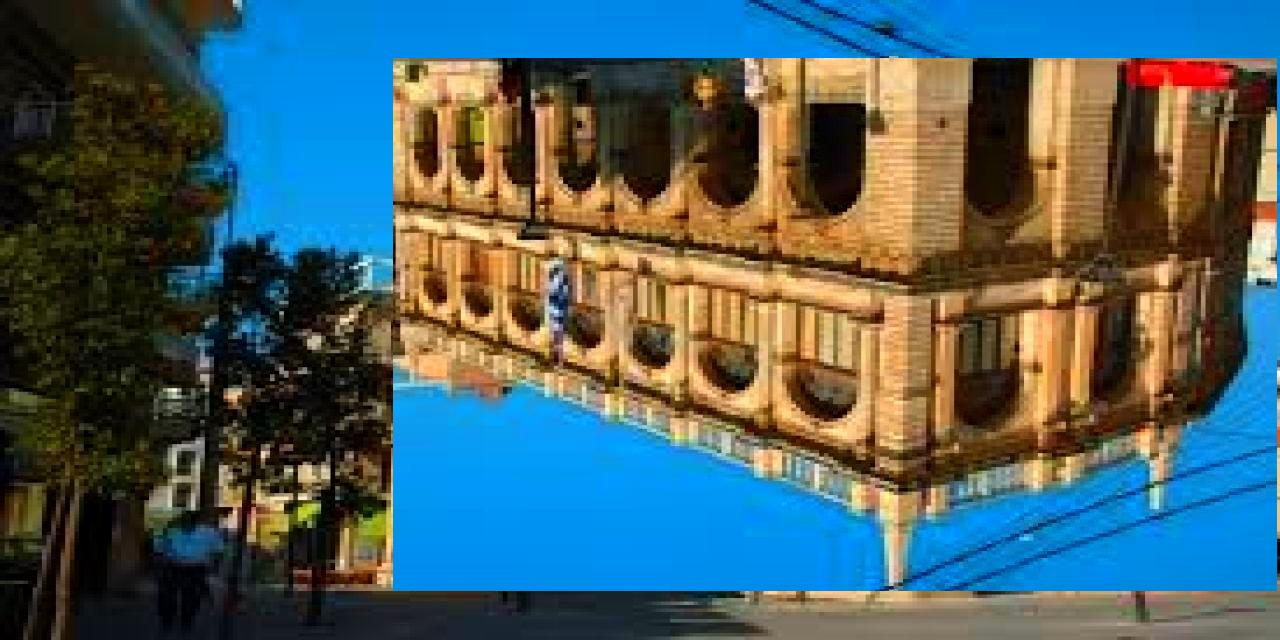Loggia: (394, 59, 1278, 592)
